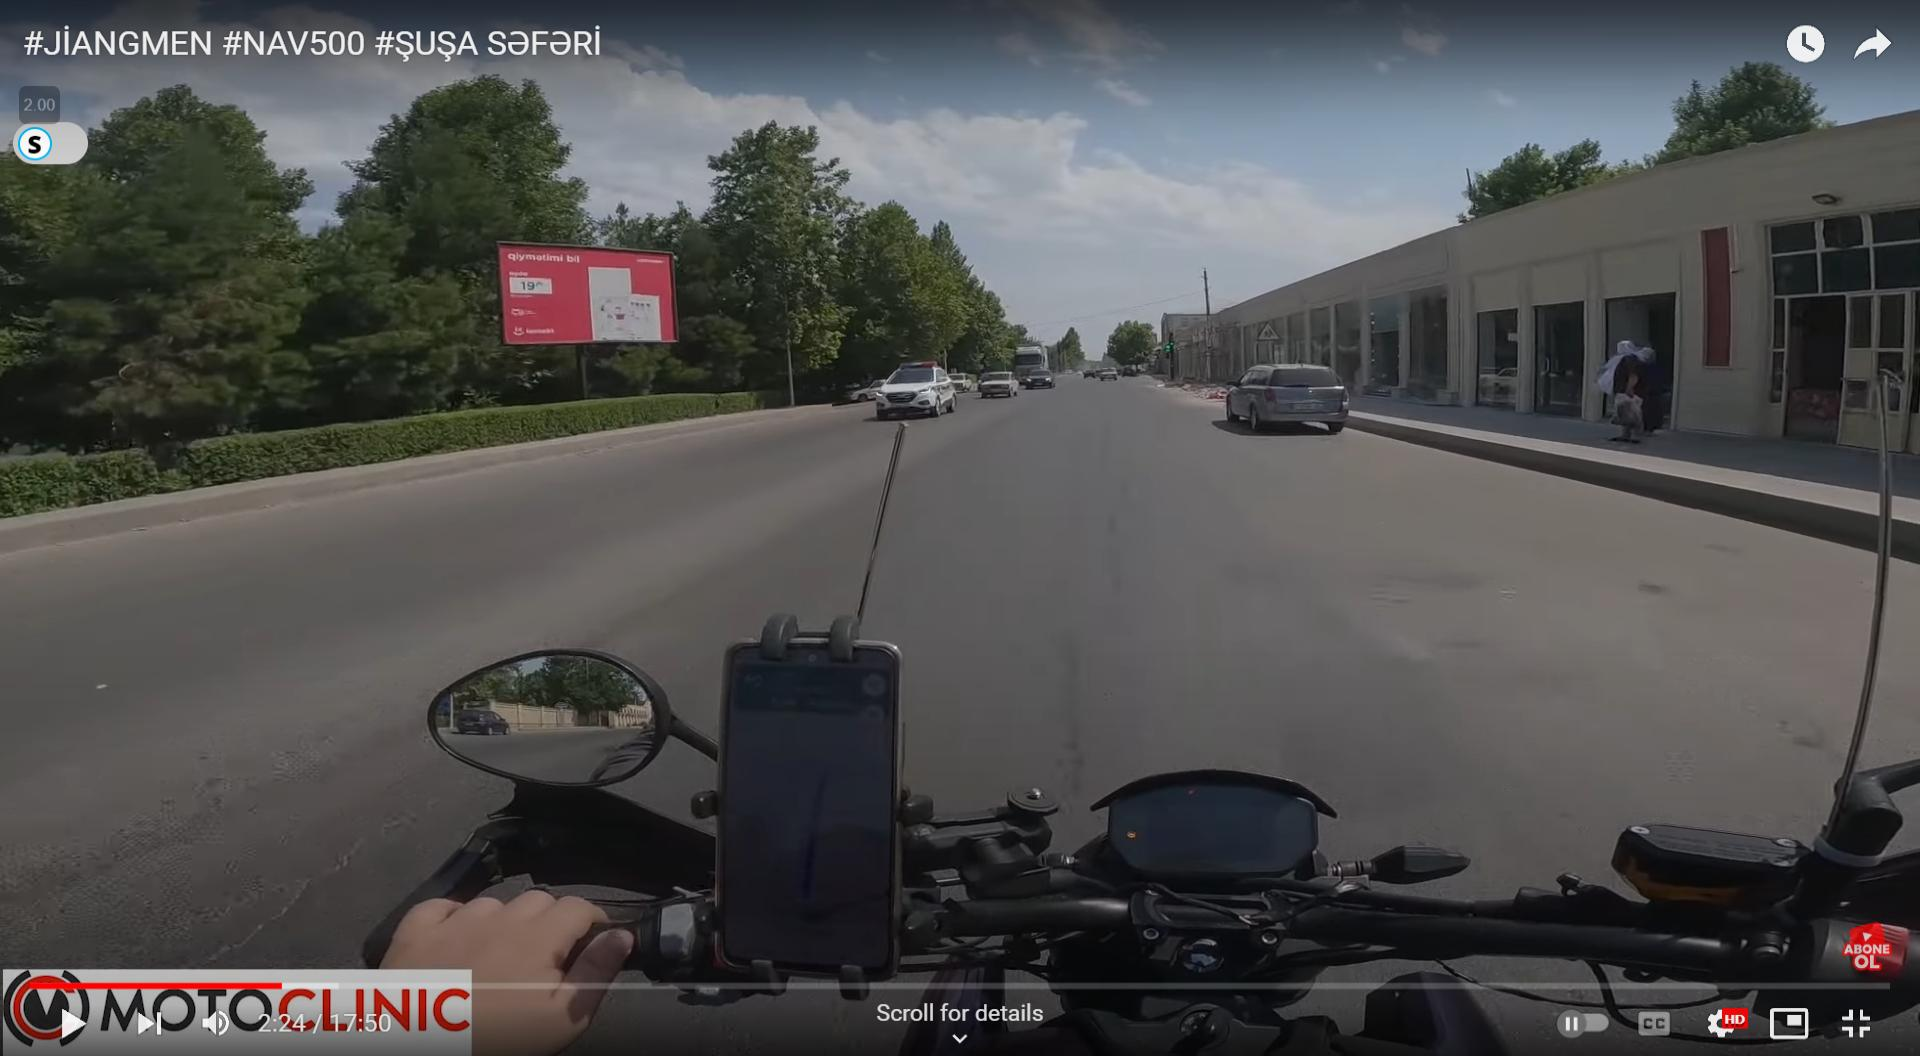banner: (498, 241, 677, 347)
